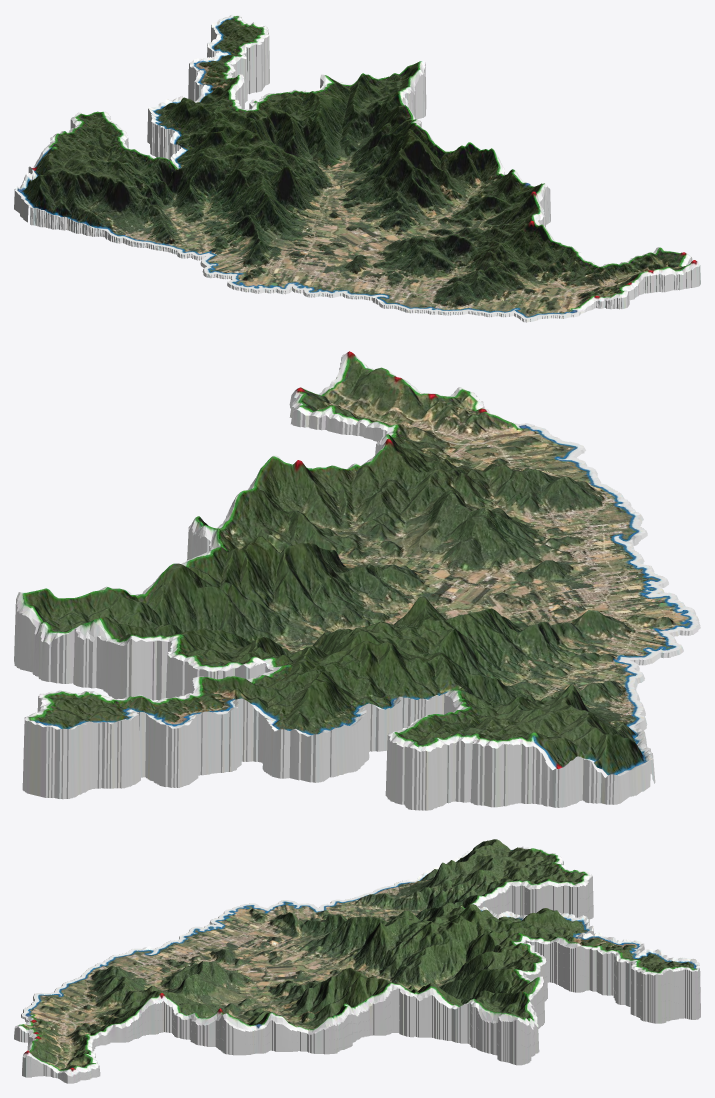
3 renders of one model, top to bottom at view 1: azimuth 30°, elevation 25°; view 2: azimuth 150°, elevation 25°; view 3: azimuth 270°, elevation 25°, orthographic. The views are drawn at different scales.
Size of the model in its own units: 1 by 0.1086 by 1.33.
1 material, 1 textured.
